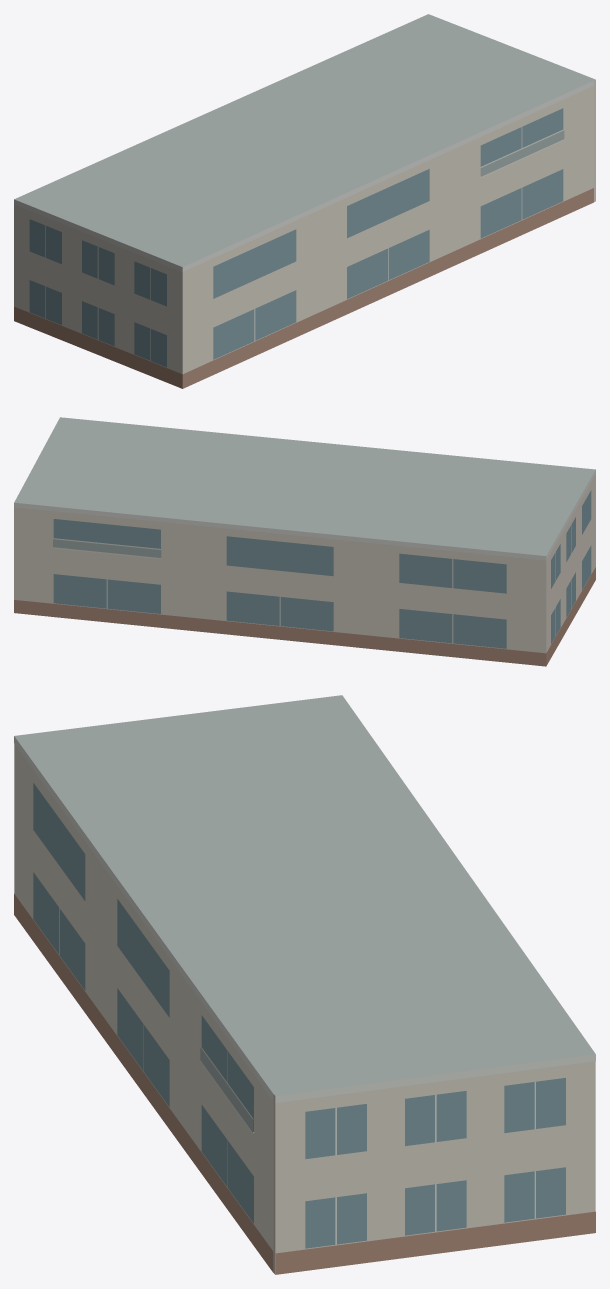
Rendered from survey-upis-33025123.glb.
The picture shows the model from 3 angles, top to bottom: view 1: azimuth 30°, elevation 25°; view 2: azimuth 150°, elevation 25°; view 3: azimuth 270°, elevation 25°; orthographic projection. The views are drawn at different scales.
Parts seen in each view (by area): view 1: survey-upis-33025123.tmp; view 2: survey-upis-33025123.tmp; view 3: survey-upis-33025123.tmp.
Boxes of the visible parts, x1,y1,x2,y2 form: survey-upis-33025123.tmp: [14, 14, 595, 388]; survey-upis-33025123.tmp: [14, 417, 595, 666]; survey-upis-33025123.tmp: [14, 695, 595, 1274].
Bounding box in the file's own units: 29.32 × 6.1 × 17.99.
